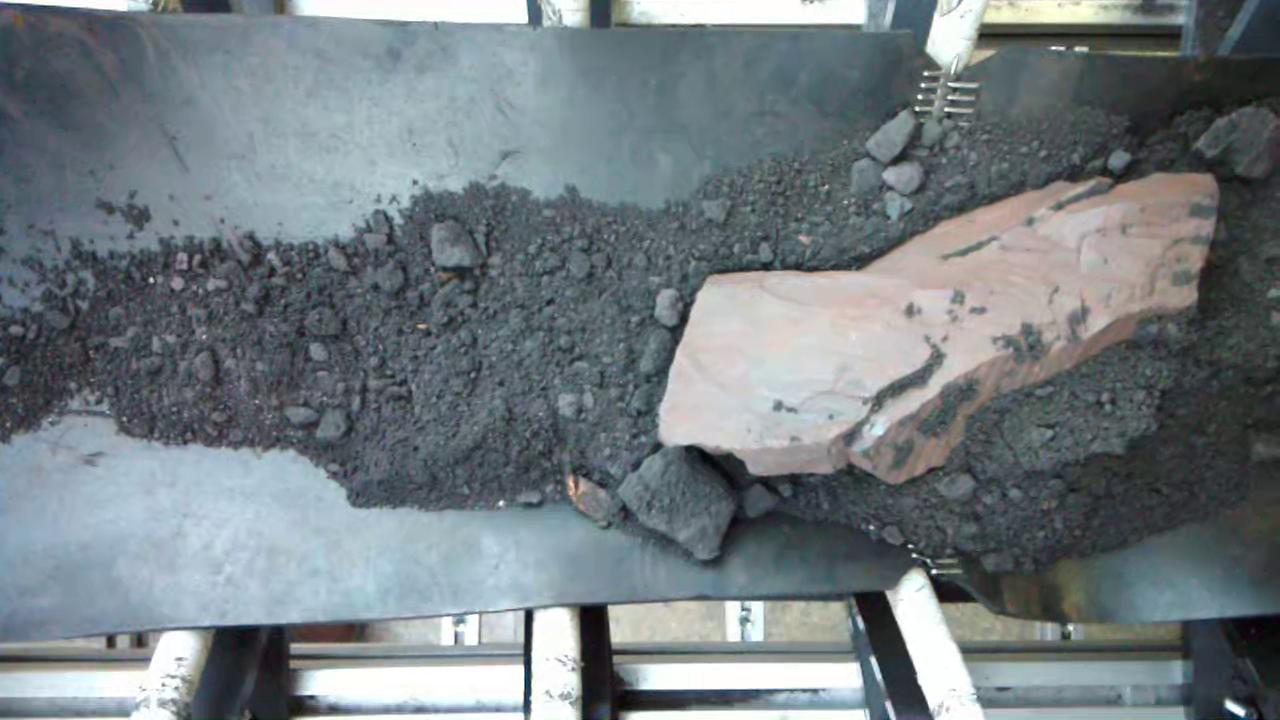conveyor: (1, 51, 1280, 576)
